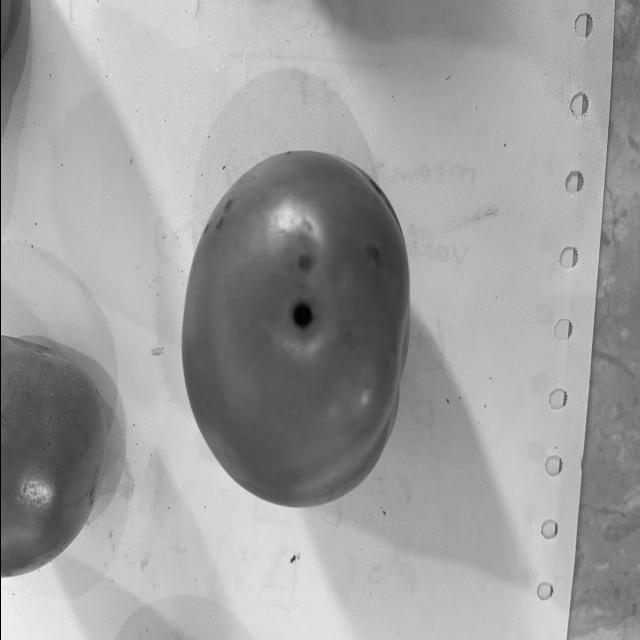fruitworm_bore: (282, 240, 320, 346)
